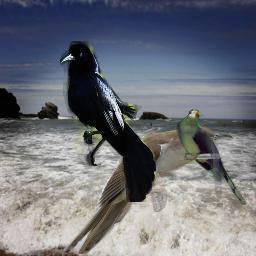Crow: (60, 41, 156, 202)
Cuckoo: (63, 125, 234, 254), (176, 109, 252, 207)
